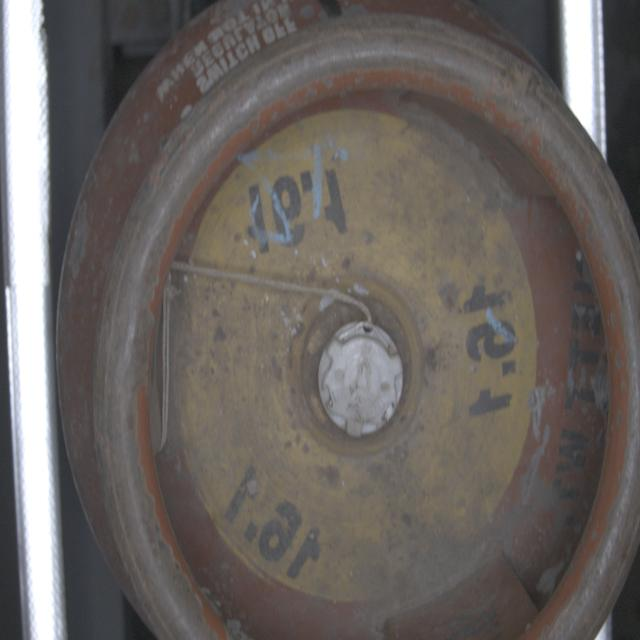Cap: (316, 319, 404, 441)
